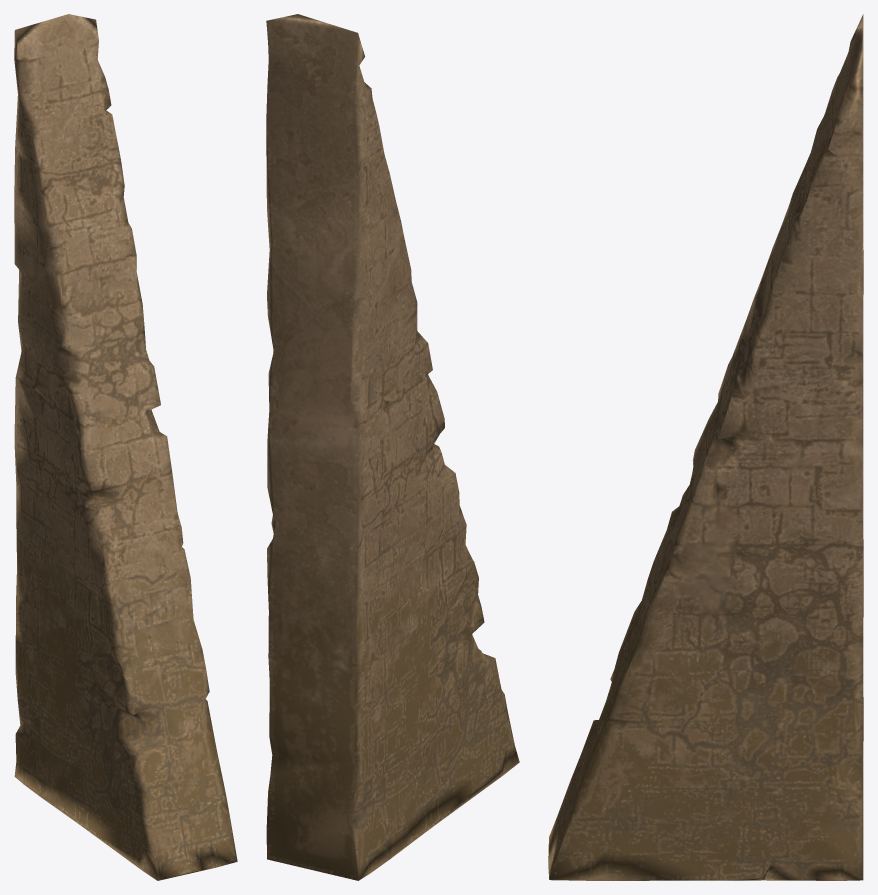
Rendered from Wall_Angled04.fbx.
3 renders of one model, left to right at view 1: azimuth 30°, elevation 25°; view 2: azimuth 150°, elevation 25°; view 3: azimuth 270°, elevation 25°, orthographic. The views are drawn at different scales.
Parts seen in each view (by area): view 1: DesertTemple_Wall_Angled_04; view 2: DesertTemple_Wall_Angled_04; view 3: DesertTemple_Wall_Angled_04.
Boxes of the visible parts, box(x1,y1,x2,y2) form: DesertTemple_Wall_Angled_04: box(14, 14, 237, 880); DesertTemple_Wall_Angled_04: box(266, 14, 519, 880); DesertTemple_Wall_Angled_04: box(548, 14, 863, 880).
Bounding box in the file's own units: 121 × 1039 × 359.
